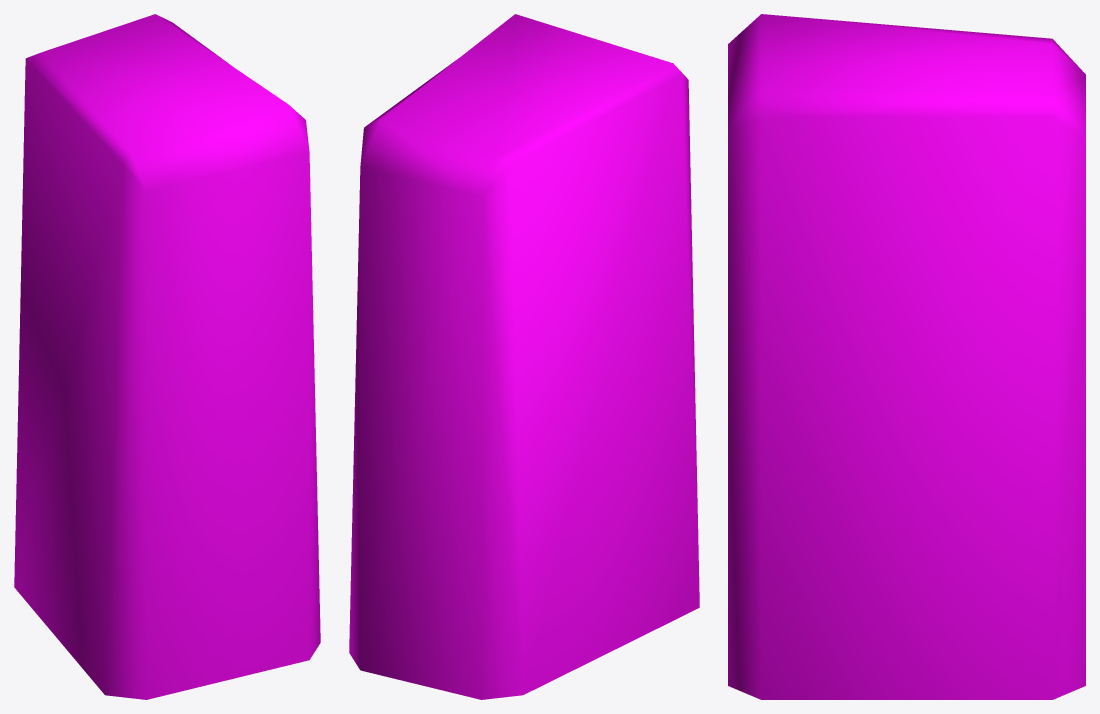
The model's file is stone_cubic_weathered_03.glb.
3 views of the same model, side by side, from view 1: azimuth 30°, elevation 25°; view 2: azimuth 150°, elevation 25°; view 3: azimuth 270°, elevation 25° (orthographic). The views are drawn at different scales.
Parts seen in each view (by area): view 1: Cube_006-mesh; view 2: Cube_006-mesh; view 3: Cube_006-mesh.
Part boxes in pixels (x1,y1,x2,y2): Cube_006-mesh: (14, 14, 320, 699); Cube_006-mesh: (349, 14, 699, 699); Cube_006-mesh: (728, 14, 1085, 699).
Size of the model in its own units: 4.38 by 10.59 by 5.76.
